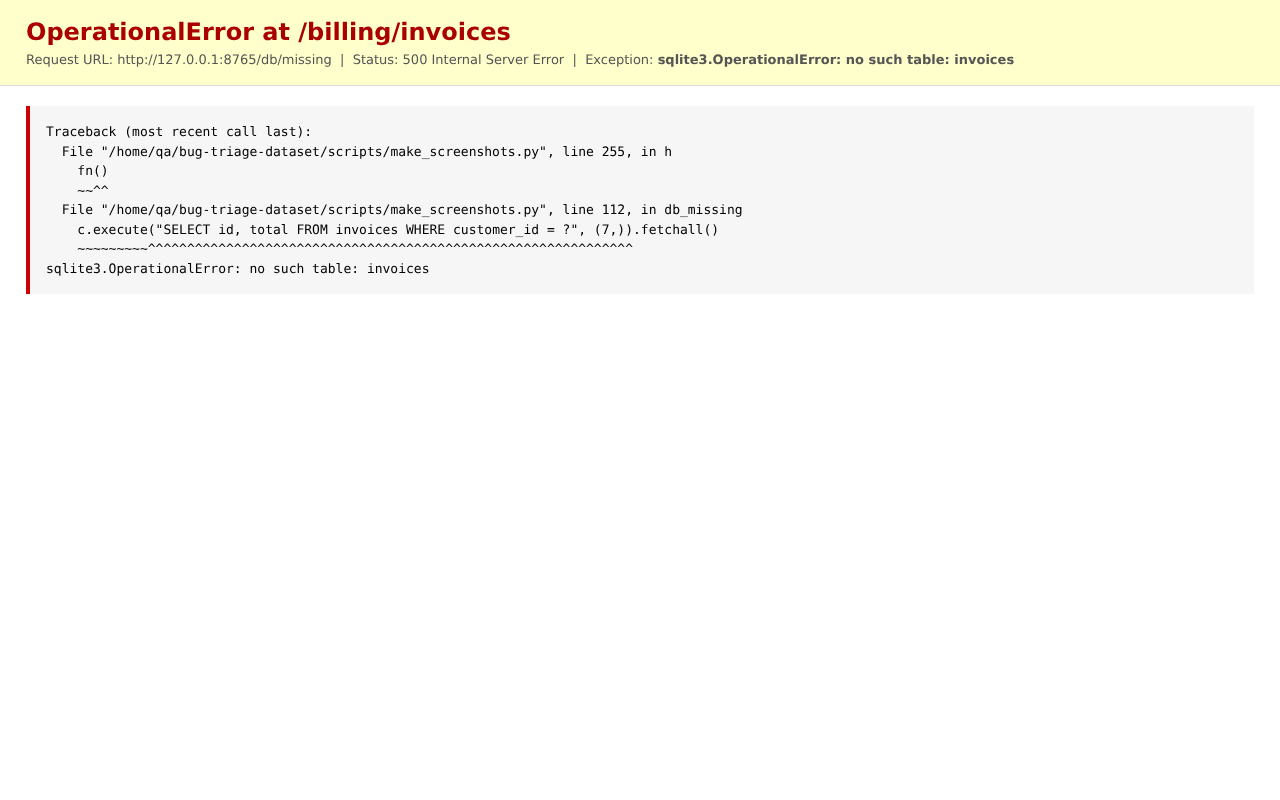ERROR_TEXT: (27, 21, 510, 46), (586, 54, 1014, 67), (47, 263, 429, 276)
STACK_TRACE: (26, 106, 1254, 294)
STATUS_INDICATOR: (353, 54, 564, 65)
